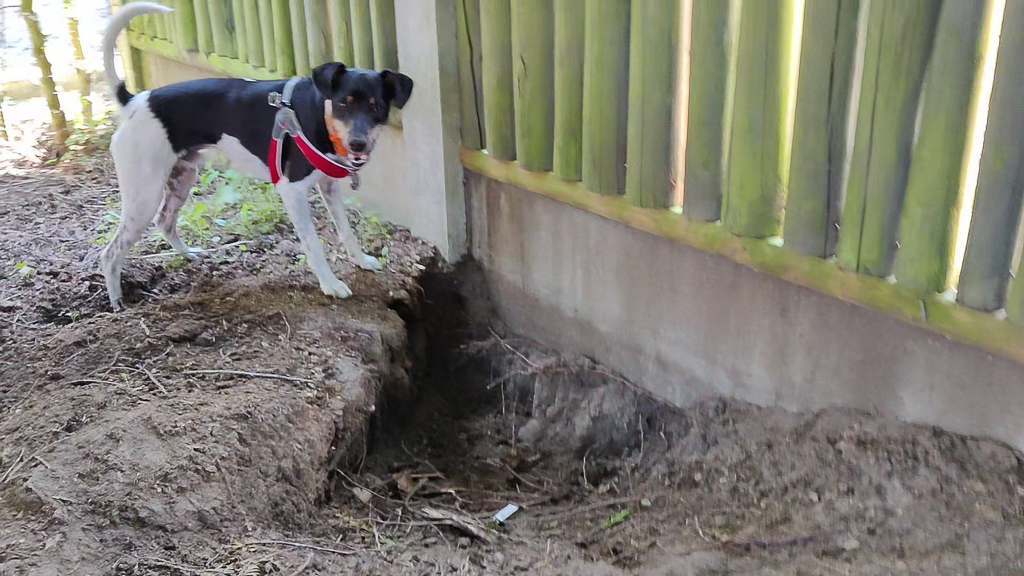Dog: (82, 0, 427, 327)
